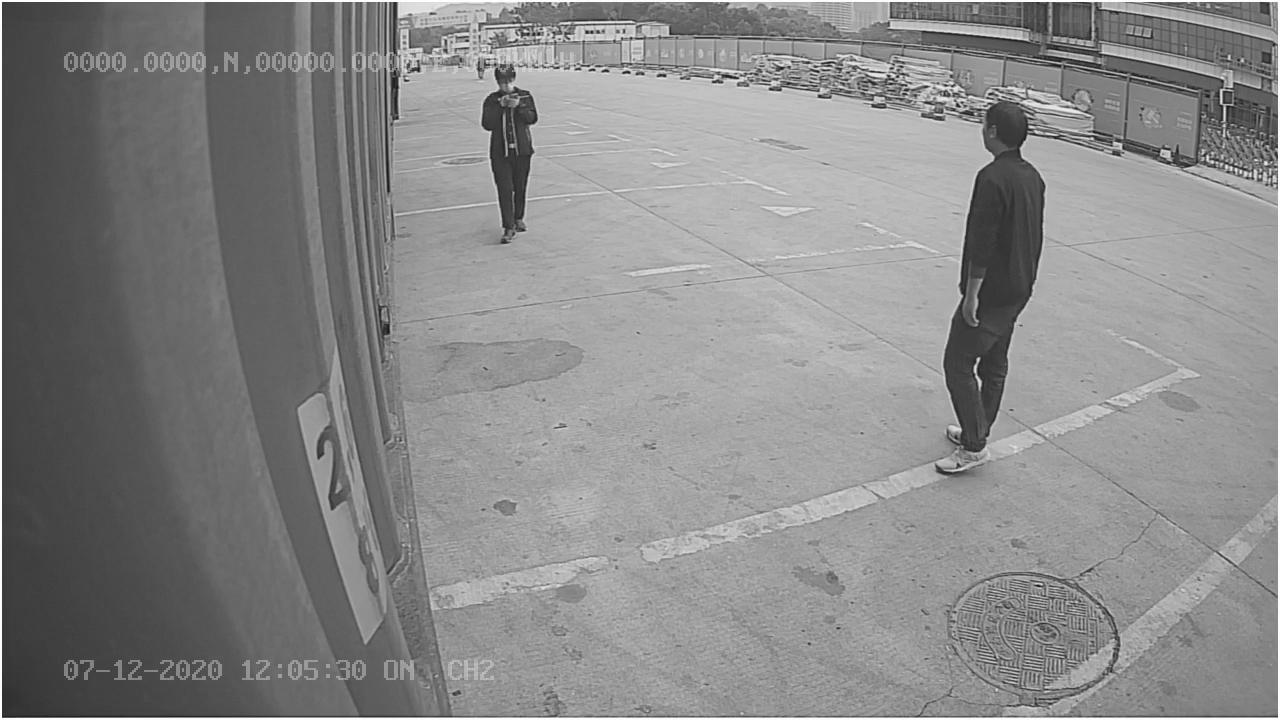person: (930, 98, 1048, 479)
